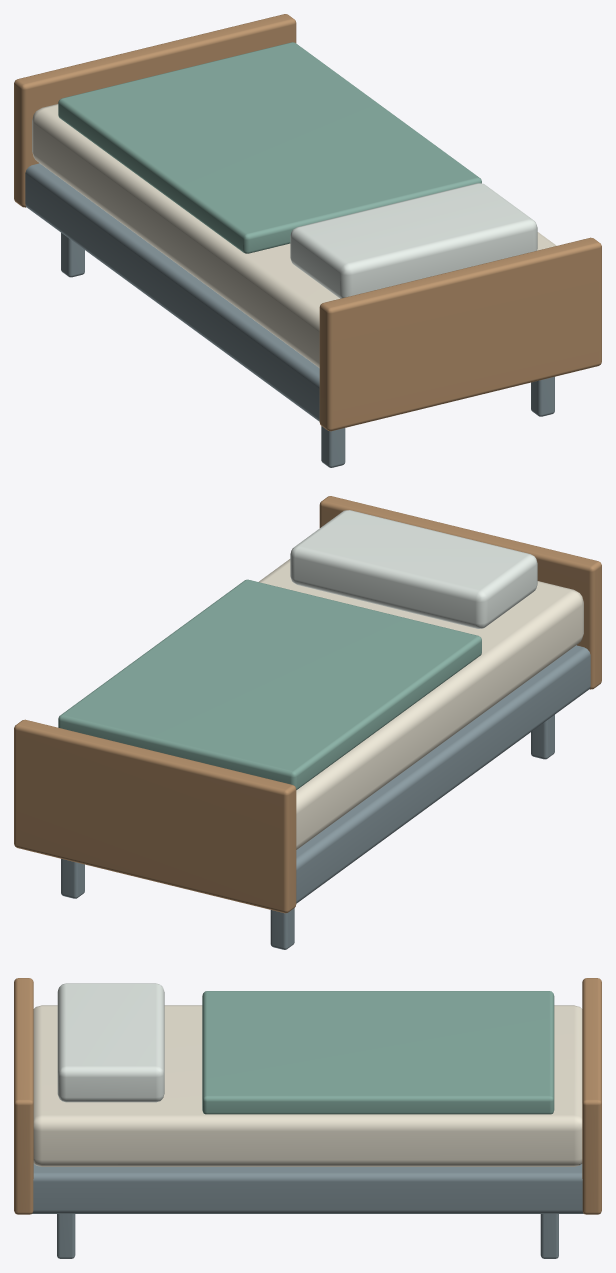
The model's file is alpha_bed.glb.
The picture shows the model from 3 angles, top to bottom: view 1: azimuth 30°, elevation 25°; view 2: azimuth 150°, elevation 25°; view 3: azimuth 270°, elevation 25°; orthographic projection. The views are drawn at different scales.
Parts seen in each view (by area): view 1: Alpha_sage, Alpha_oak, Alpha_cream, Alpha_metal, Alpha_white; view 2: Alpha_sage, Alpha_oak, Alpha_cream, Alpha_white, Alpha_metal; view 3: Alpha_sage, Alpha_cream, Alpha_metal, Alpha_white, Alpha_oak.
Boxes of the visible parts, x1=… form: Alpha_sage: x1=58, y1=42, x2=481, y2=253; Alpha_oak: x1=14, y1=14, x2=601, y2=431; Alpha_cream: x1=32, y1=104, x2=556, y2=367; Alpha_metal: x1=25, y1=163, x2=554, y2=467; Alpha_white: x1=290, y1=183, x2=537, y2=298; Alpha_sage: x1=58, y1=579, x2=481, y2=789; Alpha_oak: x1=14, y1=496, x2=601, y2=913; Alpha_cream: x1=259, y1=559, x2=583, y2=849; Alpha_white: x1=290, y1=510, x2=537, y2=628; Alpha_metal: x1=61, y1=645, x2=590, y2=949; Alpha_sage: x1=202, y1=991, x2=554, y2=1114; Alpha_cream: x1=33, y1=1005, x2=582, y2=1166; Alpha_metal: x1=32, y1=1164, x2=583, y2=1258; Alpha_white: x1=57, y1=983, x2=164, y2=1102; Alpha_oak: x1=14, y1=978, x2=601, y2=1214.
Bounding box in the file's own units: 1.05 × 0.72 × 2.09.
